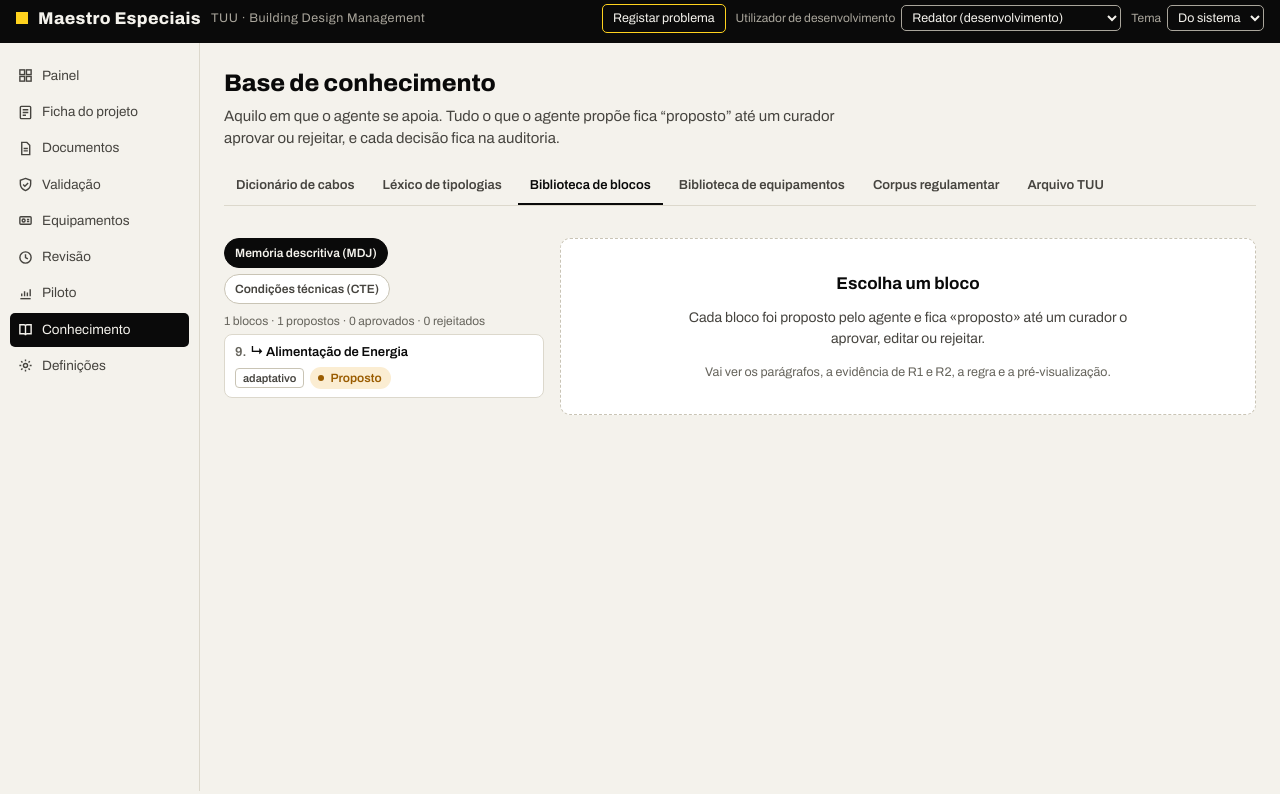
Test: block library (screen G) › lists the blocks of one document and opens one with its evidence side by side
Click the button "9.↳ Alimentação de Energia adaptativo Proposto".
click(384, 366)  # box [224, 334, 544, 398]
(page scrolled)
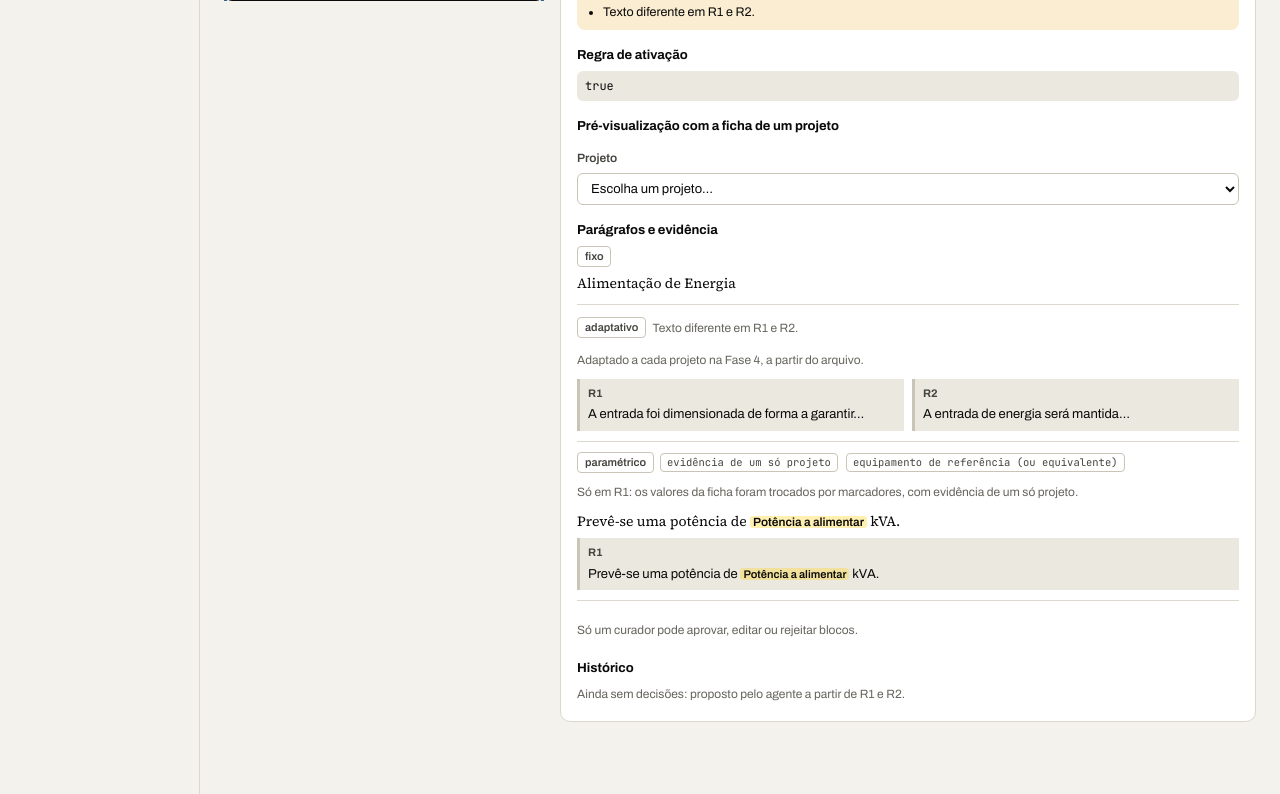
Now the text "Potência a alimentar" is shown 2 times, box [750, 516, 867, 528]; [740, 568, 849, 580]
Now the text "evidência de um só projeto" is shown, box [660, 452, 838, 472]
Now the text "equipamento de referência (ou equivalente)" is shown, box [846, 452, 1124, 472]
